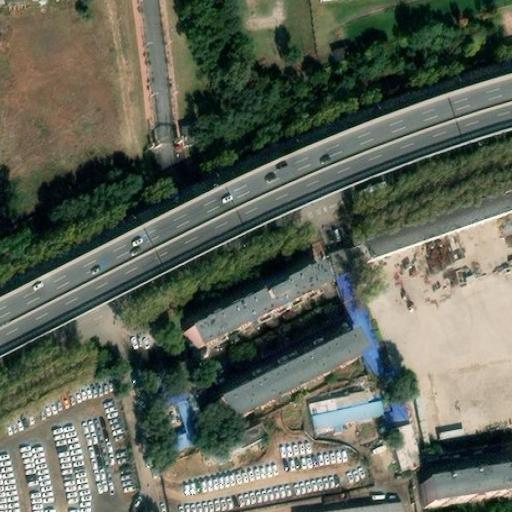building: (188, 251, 349, 349), (216, 332, 359, 423), (367, 185, 512, 258), (323, 273, 397, 381), (422, 464, 512, 505), (310, 388, 388, 431), (201, 417, 267, 465), (169, 394, 206, 453), (391, 422, 421, 471), (315, 502, 405, 512), (386, 398, 409, 426)
